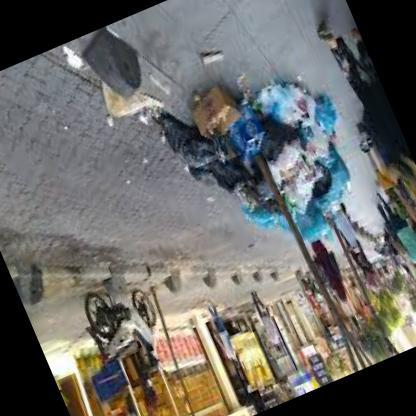Garbage: (184, 76, 272, 170), (242, 79, 328, 166), (164, 101, 240, 188), (278, 114, 350, 201), (216, 140, 280, 226), (270, 149, 336, 227), (281, 177, 332, 245)
